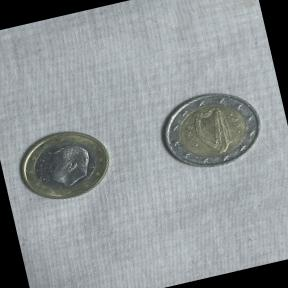coin: (148, 78, 272, 183), (7, 116, 120, 212)
